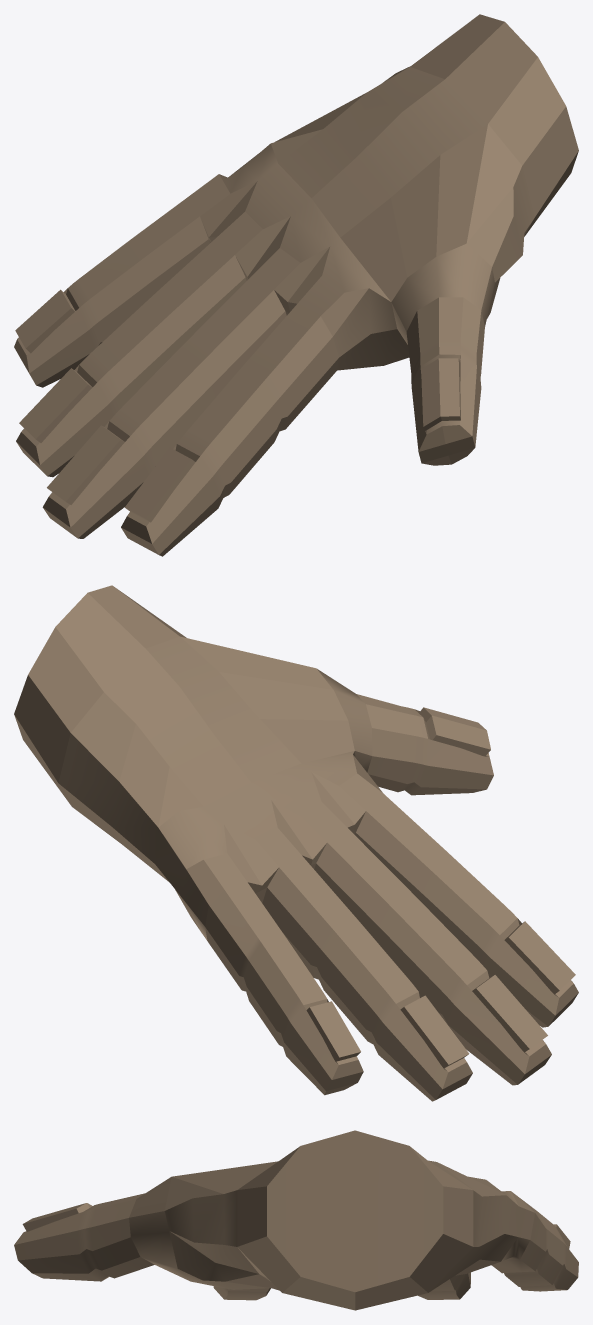
Rendered from Mano1.fbx.
3 views of the same model, one above another, from view 1: azimuth 30°, elevation 25°; view 2: azimuth 150°, elevation 25°; view 3: azimuth 270°, elevation 25° (orthographic). The views are drawn at different scales.
Parts seen in each view (by area): view 1: Mano1; view 2: Mano1; view 3: Mano1.
Boxes of the visible parts, x1,y1,x2,y2 form: Mano1: (14, 14, 578, 556); Mano1: (14, 585, 578, 1101); Mano1: (14, 1130, 578, 1310).
Size of the model in its own units: 37.32 by 28.58 by 39.35.
